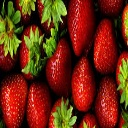strawberry: (70, 55, 96, 113), (66, 3, 94, 56), (19, 24, 44, 80), (27, 79, 51, 128), (0, 8, 18, 70), (48, 91, 77, 128), (36, 1, 68, 32), (115, 50, 128, 110)
